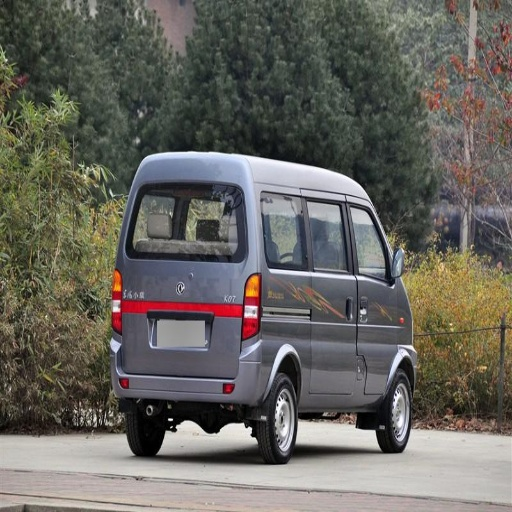back_bumper: (107, 331, 240, 402)
back_right_door: (257, 185, 357, 324)
trunk: (113, 267, 403, 405)
